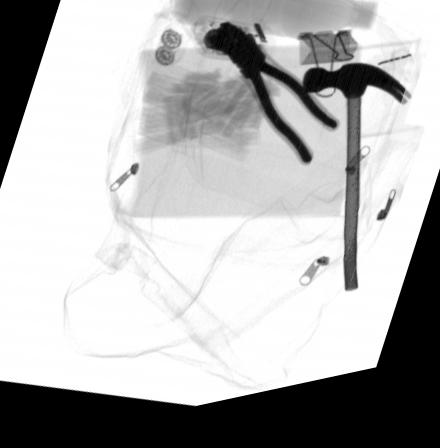Hammer: (303, 78, 413, 306)
Pliers: (227, 43, 342, 178)
